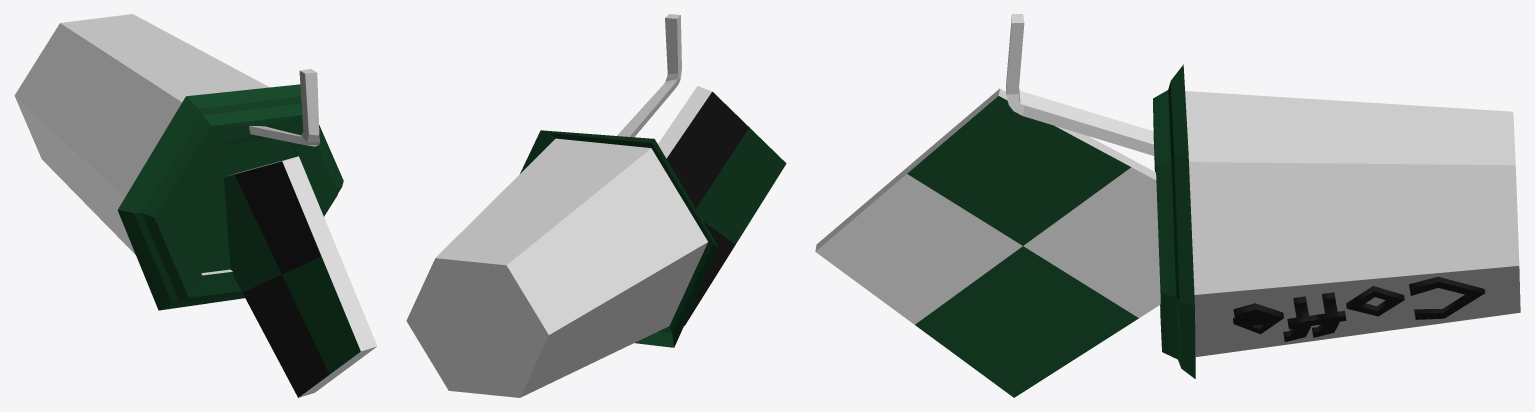
The model's file is коферомб 1.fbx.
The picture shows the model from 3 angles, left to right: view 1: azimuth 30°, elevation 25°; view 2: azimuth 150°, elevation 25°; view 3: azimuth 270°, elevation 25°; orthographic projection. The views are drawn at different scales.
Visible parts, largest first — view 1: чашка; view 2: чашка; view 3: чашка.
Boxes of the visible parts, left/top/right/bottom form: чашка: left=14, top=14, right=377, bottom=397; чашка: left=406, top=14, right=786, bottom=397; чашка: left=815, top=14, right=1520, bottom=397.
Bounding box in the file's own units: 143 × 192 × 324.
